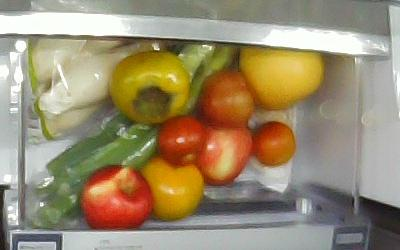apple: (81, 165, 151, 228), (189, 119, 252, 185)
grapefruit: (239, 47, 324, 107)
persimmon: (111, 51, 188, 123), (134, 154, 203, 222)
prune: (200, 71, 254, 125), (153, 115, 205, 167), (251, 122, 297, 167)
